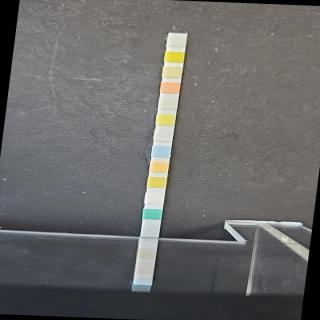mark: (145, 192, 164, 205), (166, 36, 186, 48), (162, 67, 182, 79), (160, 82, 180, 94), (152, 146, 172, 158), (148, 176, 166, 189), (154, 130, 173, 142), (149, 161, 168, 173), (143, 209, 162, 221), (158, 99, 178, 110), (156, 115, 176, 126), (166, 52, 184, 64)
